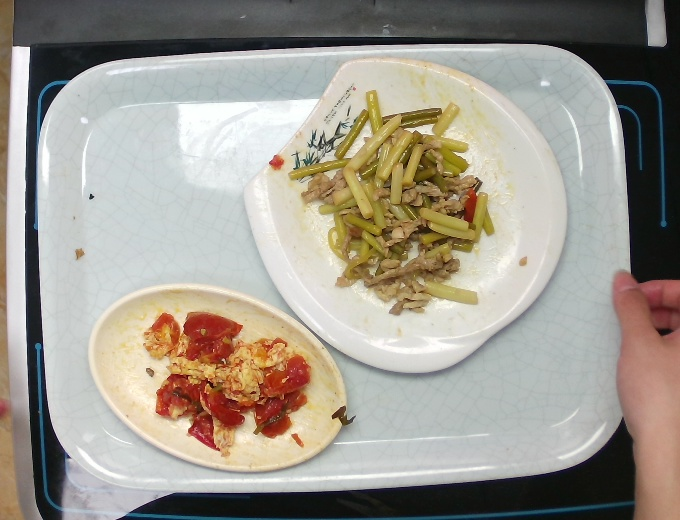JYsf-Mian_Pan: (240, 54, 572, 375)
JYsf-Tuo_Yuan_Wan: (83, 280, 351, 475)
